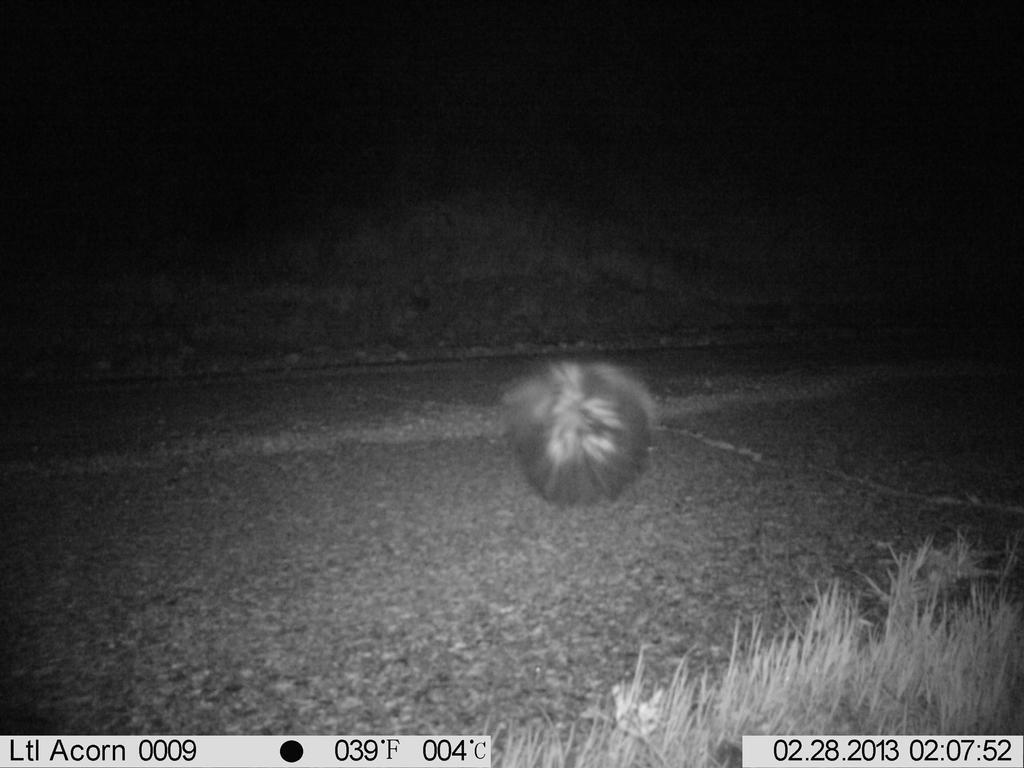skunk: (488, 329, 663, 514)
